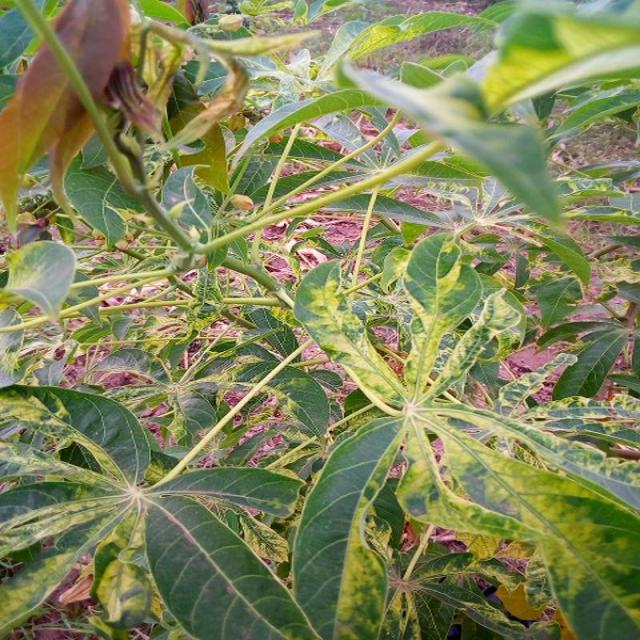cassava leaf: (0, 1, 638, 638), (290, 413, 408, 638)
